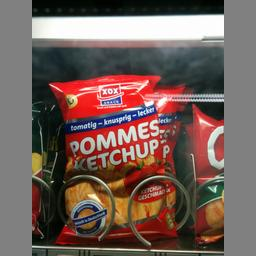chips: (54, 76, 176, 238)
